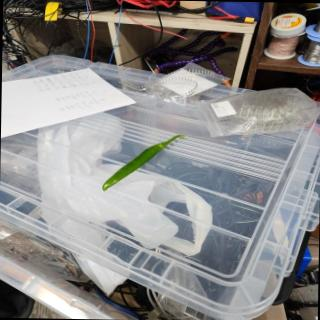Cabai Hijau: (82, 127, 192, 200)
